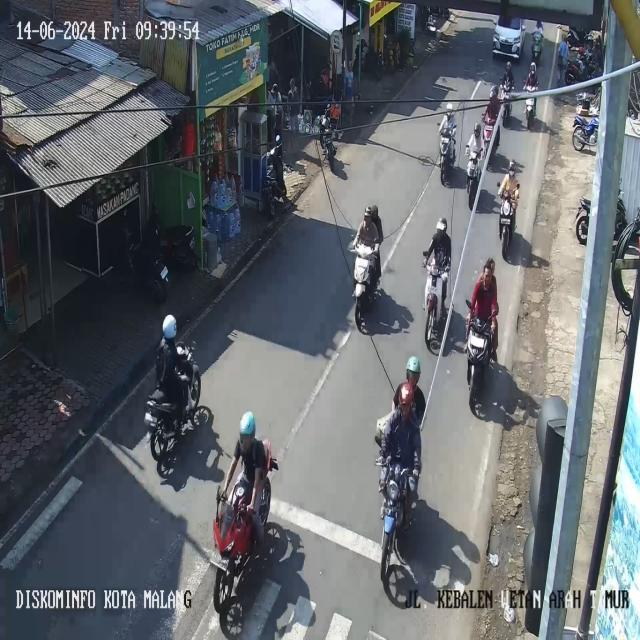Helmet: (240, 411, 256, 437), (162, 315, 177, 339), (399, 382, 413, 404), (406, 356, 420, 373), (365, 204, 377, 217), (436, 218, 446, 231), (474, 123, 481, 137), (508, 160, 515, 173), (490, 85, 497, 97), (364, 206, 371, 218), (271, 83, 278, 92), (446, 103, 452, 113), (530, 62, 535, 71), (505, 61, 510, 70)
Number Plate: (211, 551, 230, 571), (470, 334, 484, 348), (144, 412, 156, 424), (500, 216, 510, 224), (161, 266, 167, 279)
Rearview Mirror: (465, 299, 470, 308)
